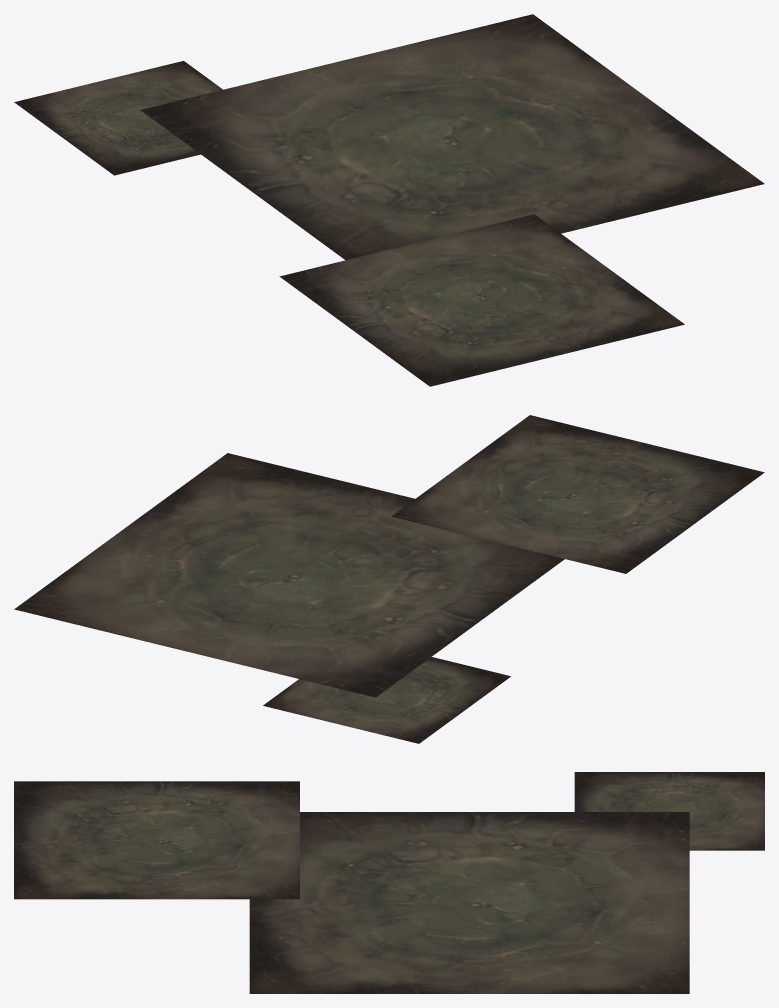
Rendered from stemple_floor_decal_09.fbx.
3 renders of one model, top to bottom at view 1: azimuth 30°, elevation 25°; view 2: azimuth 150°, elevation 25°; view 3: azimuth 270°, elevation 25°, orthographic. The views are drawn at different scales.
Visible parts, largest first — view 1: sunken_tileset/sunken_decal01_mat; view 2: sunken_tileset/sunken_decal01_mat; view 3: sunken_tileset/sunken_decal01_mat.
Boxes of the visible parts, box(x1,y1,x2,y2) form: sunken_tileset/sunken_decal01_mat: box(14, 14, 764, 386); sunken_tileset/sunken_decal01_mat: box(14, 415, 764, 743); sunken_tileset/sunken_decal01_mat: box(14, 772, 764, 993).
Size of the model in its own units: 6.32 by 0.002 by 9.03.
